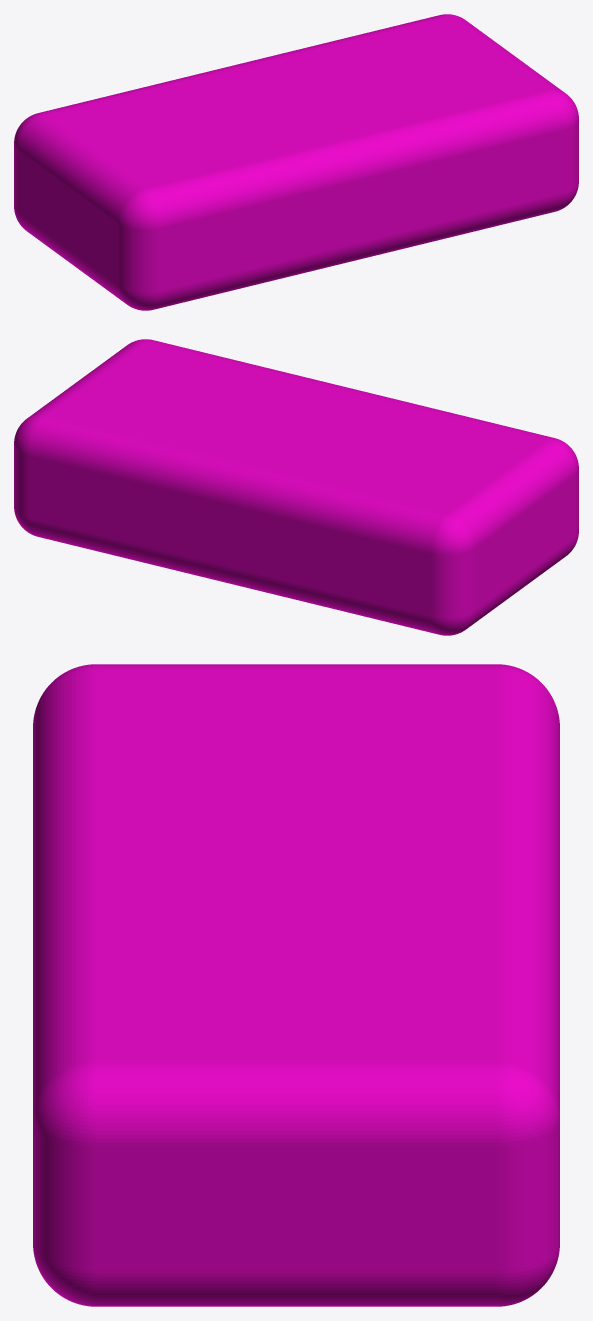
Rendered from BlockPurple.fbx.
3 renders of one model, top to bottom at view 1: azimuth 30°, elevation 25°; view 2: azimuth 150°, elevation 25°; view 3: azimuth 270°, elevation 25°, orthographic. The views are drawn at different scales.
Visible parts, largest first — view 1: Cube.009; view 2: Cube.009; view 3: Cube.009.
Boxes of the visible parts, <box> form: Cube.009: <box>14,14,578,310</box>; Cube.009: <box>14,339,578,635</box>; Cube.009: <box>33,664,559,1306</box>.
Size of the model in its own units: 4 by 1 by 2.
